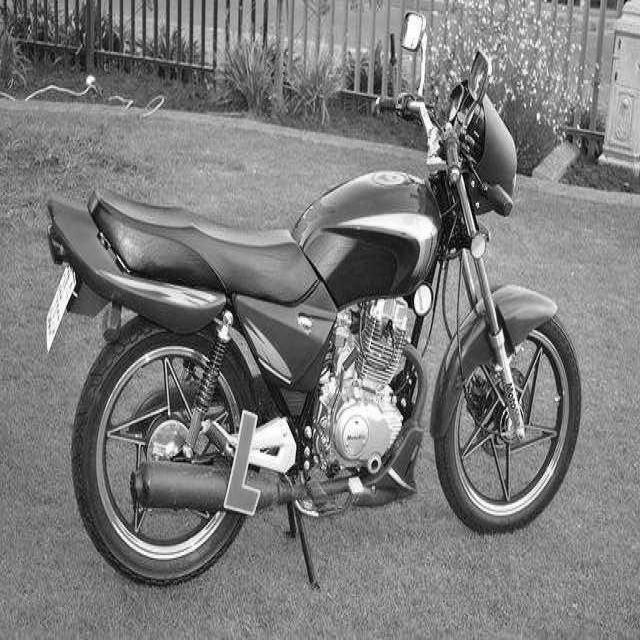Motorcycle: (46, 51, 580, 585)
